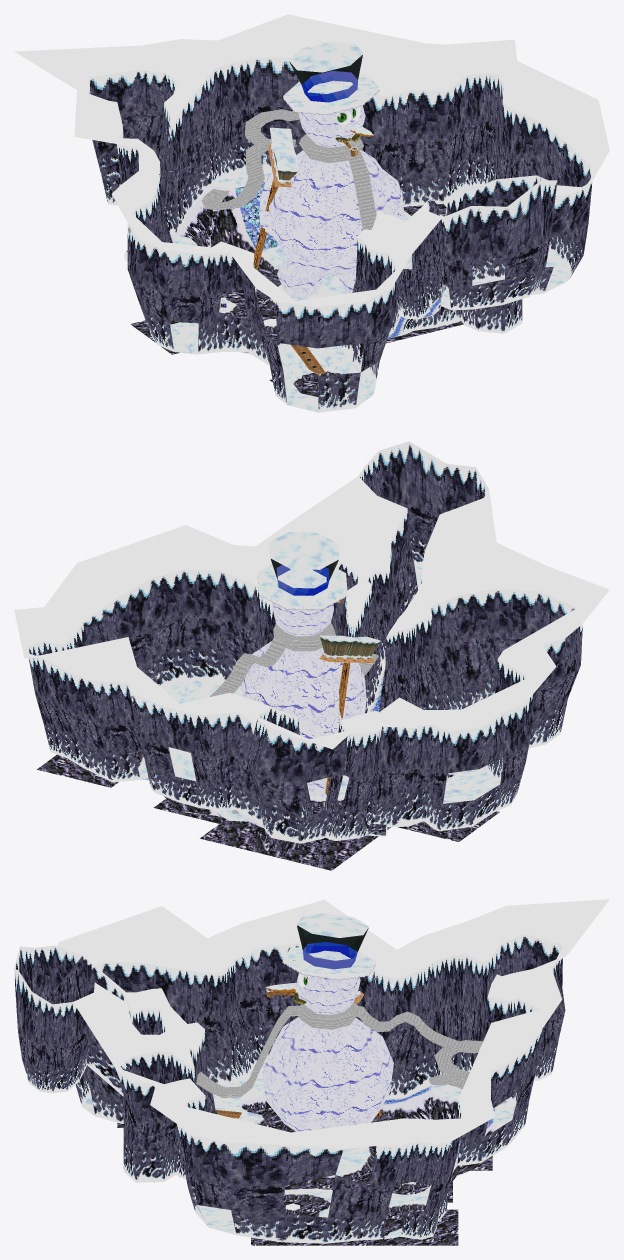
The model's file is FreezeezyPeakAlpha.obj.
3 views of the same model, one above another, from view 1: azimuth 30°, elevation 25°; view 2: azimuth 150°, elevation 25°; view 3: azimuth 270°, elevation 25° (orthographic). The views are drawn at different scales.
Bounding box in the file's own units: 18087 × 9097 × 20267.
41 materials, 41 textured.
